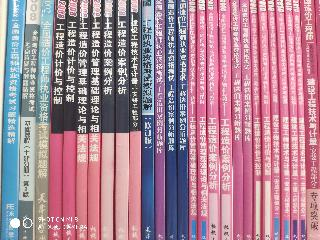book-spine: (1, 1, 25, 239), (19, 1, 41, 239), (299, 0, 320, 239), (36, 1, 54, 239), (49, 1, 67, 239), (275, 1, 293, 239), (63, 1, 79, 239), (292, 1, 308, 239), (285, 1, 300, 239), (77, 0, 91, 239), (101, 1, 115, 239), (115, 1, 129, 239), (259, 1, 272, 240), (207, 1, 220, 239), (230, 1, 243, 239), (89, 0, 101, 239), (219, 1, 231, 239), (268, 1, 280, 239), (130, 0, 141, 239), (197, 1, 208, 240), (241, 1, 252, 239), (250, 1, 261, 239), (143, 1, 154, 238), (166, 0, 176, 238), (155, 1, 165, 238), (178, 1, 187, 239), (189, 2, 197, 239)
